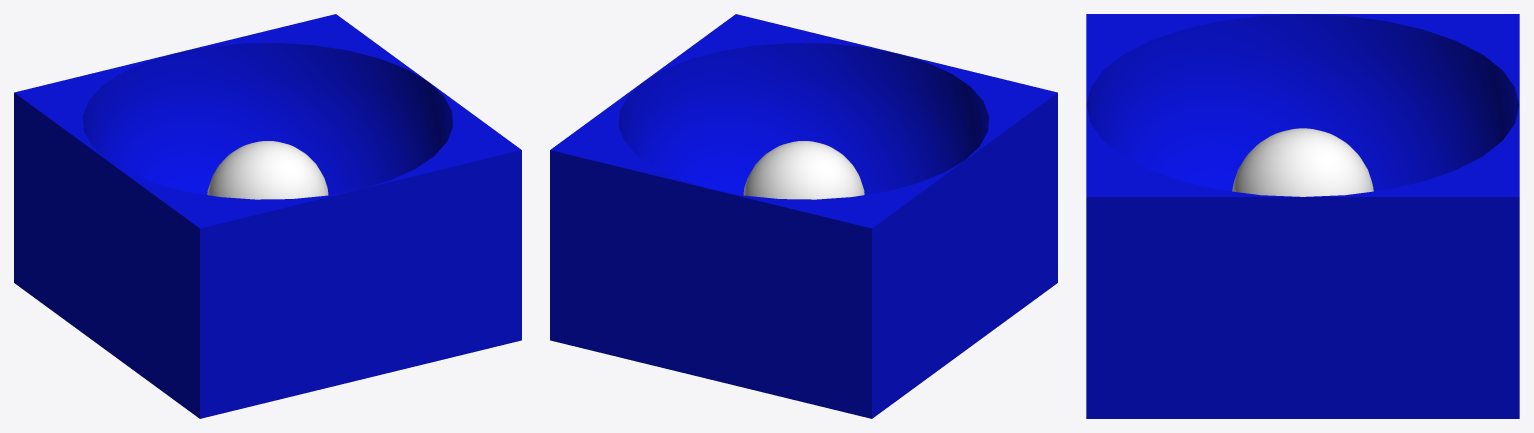
The model's file is foco.fbx.
The picture shows the model from 3 angles, left to right: view 1: azimuth 30°, elevation 25°; view 2: azimuth 150°, elevation 25°; view 3: azimuth 270°, elevation 25°; orthographic projection. The views are drawn at different scales.
Visible parts, largest first — view 1: Cube, Sphere; view 2: Cube, Sphere; view 3: Cube, Sphere.
Boxes of the visible parts, x1,y1,x2,y2 form: Cube: (14,14,521,418); Sphere: (207,141,328,199); Cube: (550,14,1057,418); Sphere: (743,141,864,199); Cube: (1086,14,1519,418); Sphere: (1232,128,1373,196).
Size of the model in its own units: 200 by 113 by 200.
